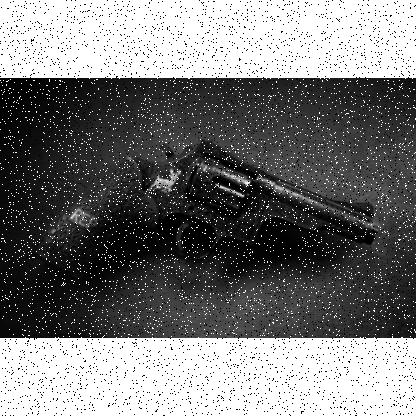gun: (32, 138, 380, 282)
